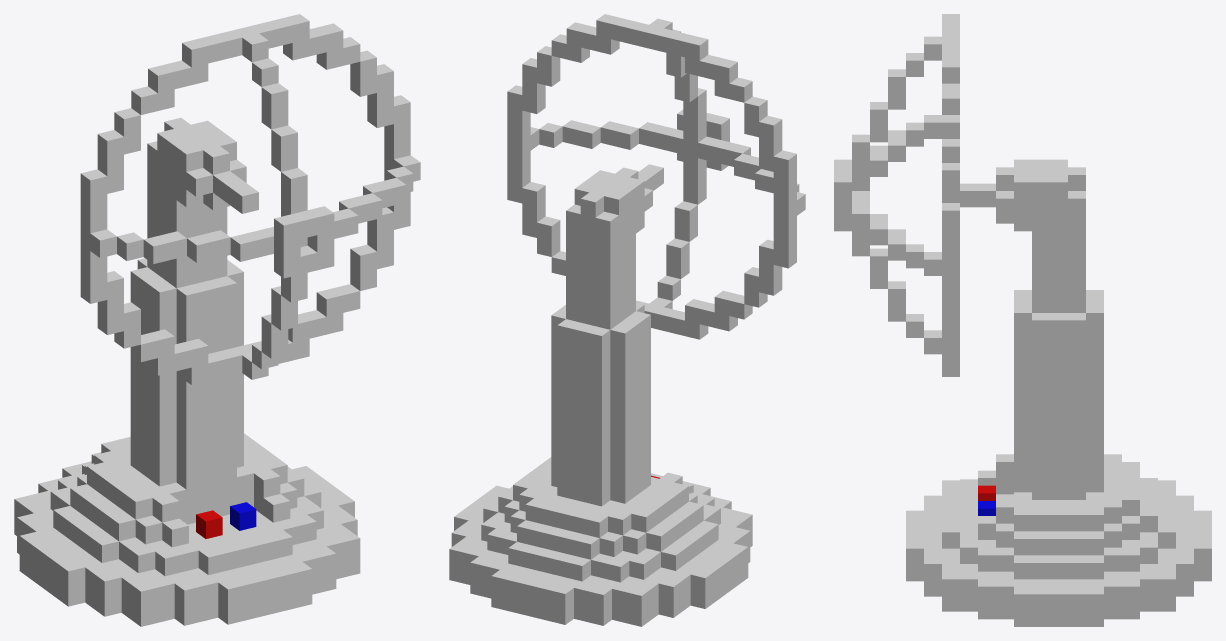
The model's file is wind.obj.
The picture shows the model from 3 angles, left to right: view 1: azimuth 30°, elevation 25°; view 2: azimuth 150°, elevation 25°; view 3: azimuth 270°, elevation 25°; orthographic projection. The views are drawn at different scales.
Size of the model in its own units: 19 by 32 by 21.
